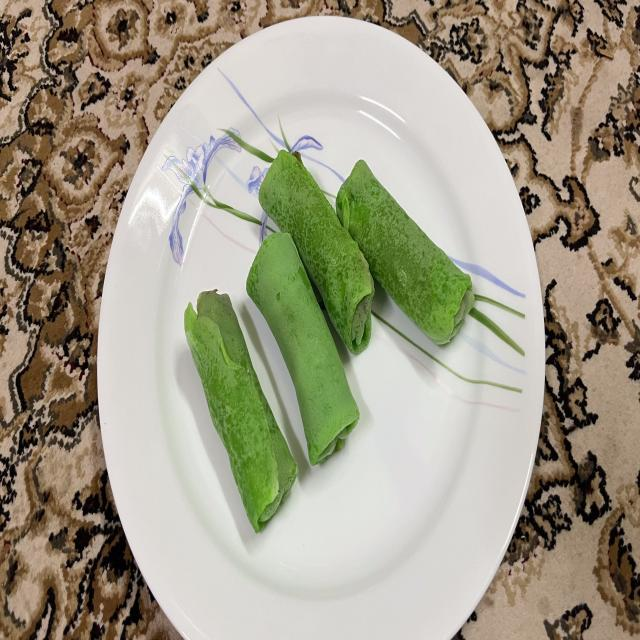Kuih-Ketayap: (184, 291, 298, 533), (246, 233, 360, 464), (336, 160, 474, 344), (259, 149, 374, 353)
